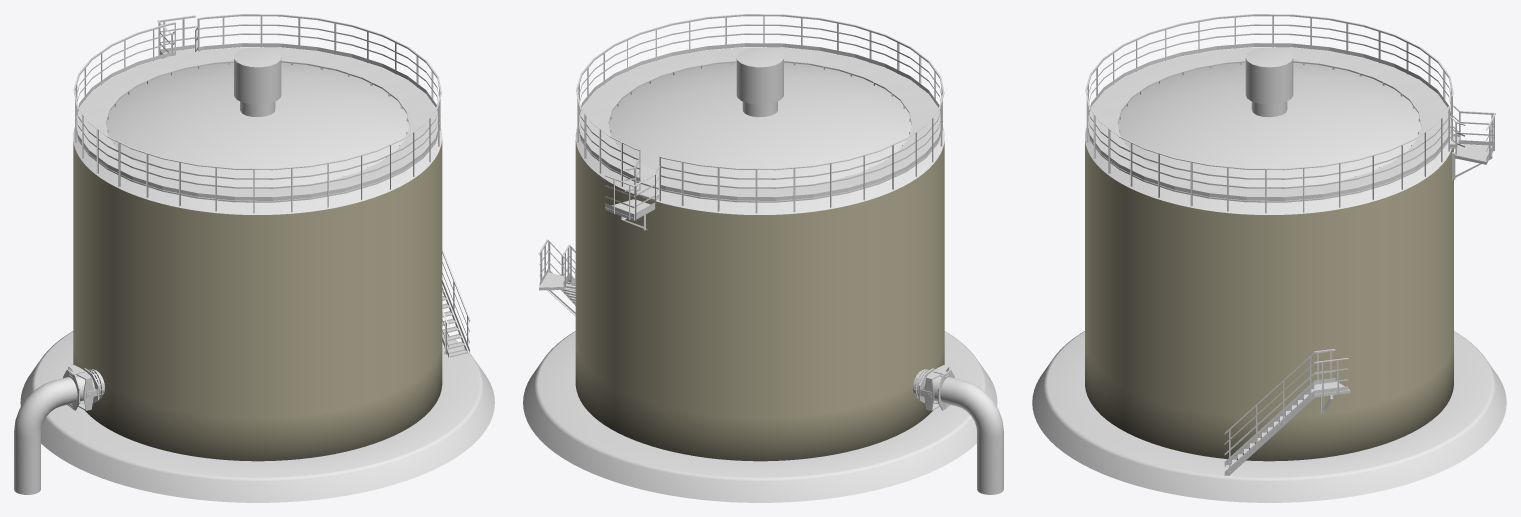
File: SM_OilStorage_1K.fbx
3 views of the same model, side by side, from view 1: azimuth 30°, elevation 25°; view 2: azimuth 150°, elevation 25°; view 3: azimuth 270°, elevation 25° (orthographic).
Visible parts, largest first — view 1: SM_OilWall_1K, SM_OilRoof_1K, SM_Foundatoin_1K, SM_IndustrialSite_V1_1K_LOD0, SM_BigTube_1K_LOD0, SM_BigVentilation_1K_LOD0, SM_Ladder_V3_1K_LOD0, SM_Ladder_V1_1K_LOD0; view 2: SM_OilWall_1K, SM_OilRoof_1K, SM_Foundatoin_1K, SM_IndustrialSite_V1_1K_LOD0, SM_BigTube_1K_LOD0, SM_BigVentilation_1K_LOD0, SM_Ladder_V1_1K_LOD0, SM_Ladder_V2_1K_LOD0, SM_Ladder_V3_1K_LOD0; view 3: SM_OilWall_1K, SM_OilRoof_1K, SM_Foundatoin_1K, SM_IndustrialSite_V1_1K_LOD0, SM_BigVentilation_1K_LOD0, SM_Ladder_V3_1K_LOD0, SM_Ladder_V1_1K_LOD0, SM_Ladder_V2_1K_LOD0.
Part boxes in pixels (x1,y1,x2,y2): SM_OilWall_1K: (73,140,442,461); SM_OilRoof_1K: (73,62,442,214); SM_Foundatoin_1K: (20,331,494,502); SM_IndustrialSite_V1_1K_LOD0: (73,14,441,213); SM_BigTube_1K_LOD0: (14,365,104,494); SM_BigVentilation_1K_LOD0: (234,47,281,116); SM_Ladder_V3_1K_LOD0: (442,248,470,358); SM_Ladder_V1_1K_LOD0: (157,15,197,58); SM_OilWall_1K: (575,140,944,461); SM_OilRoof_1K: (575,62,944,214); SM_Foundatoin_1K: (523,331,997,502); SM_IndustrialSite_V1_1K_LOD0: (576,14,944,213); SM_BigTube_1K_LOD0: (913,365,1003,494); SM_BigVentilation_1K_LOD0: (736,47,783,117); SM_Ladder_V1_1K_LOD0: (604,159,660,230); SM_Ladder_V2_1K_LOD0: (538,239,575,315); SM_Ladder_V3_1K_LOD0: (548,240,575,305); SM_OilWall_1K: (1085,141,1453,461); SM_OilRoof_1K: (1085,62,1453,214); SM_Foundatoin_1K: (1032,331,1506,502); SM_IndustrialSite_V1_1K_LOD0: (1085,14,1453,213); SM_BigVentilation_1K_LOD0: (1245,47,1293,117); SM_Ladder_V3_1K_LOD0: (1224,352,1314,475); SM_Ladder_V1_1K_LOD0: (1449,105,1495,180); SM_Ladder_V2_1K_LOD0: (1314,349,1350,414).
Size of what is drawn, in the model's own units: 17.26 by 13.92 by 15.85.
